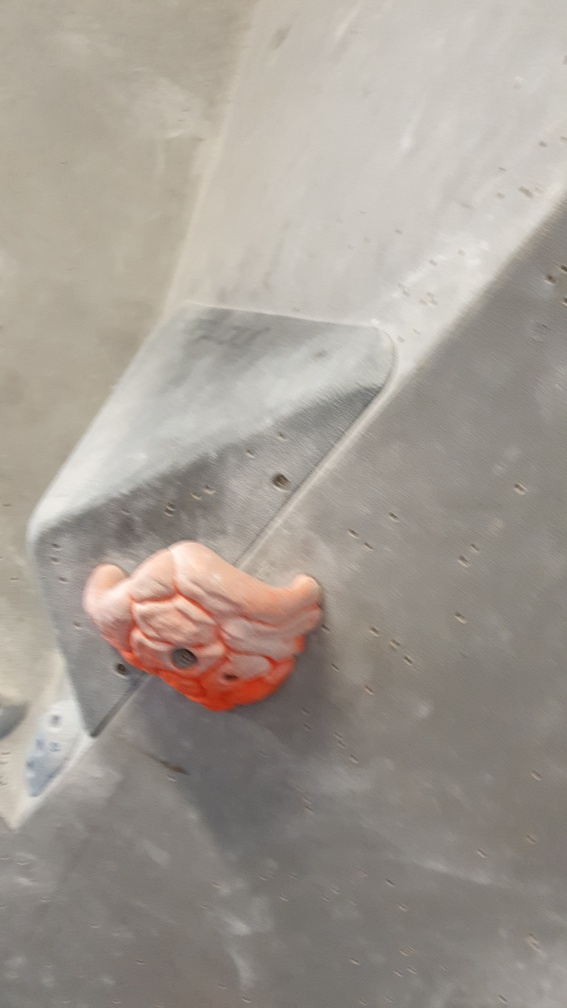Jug: (81, 536, 327, 715)
